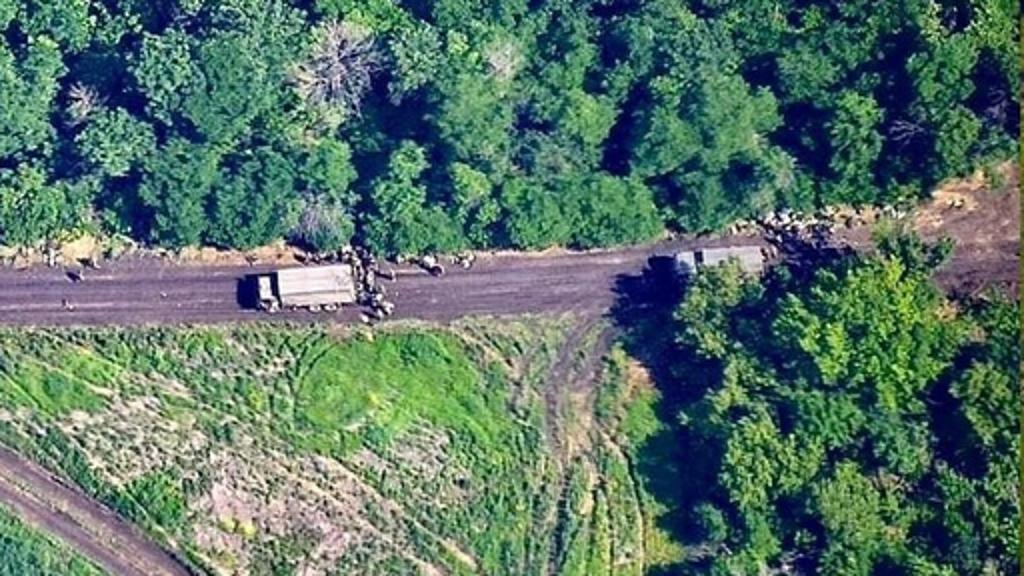TRUCK: (238, 256, 364, 312), (656, 242, 770, 294)
